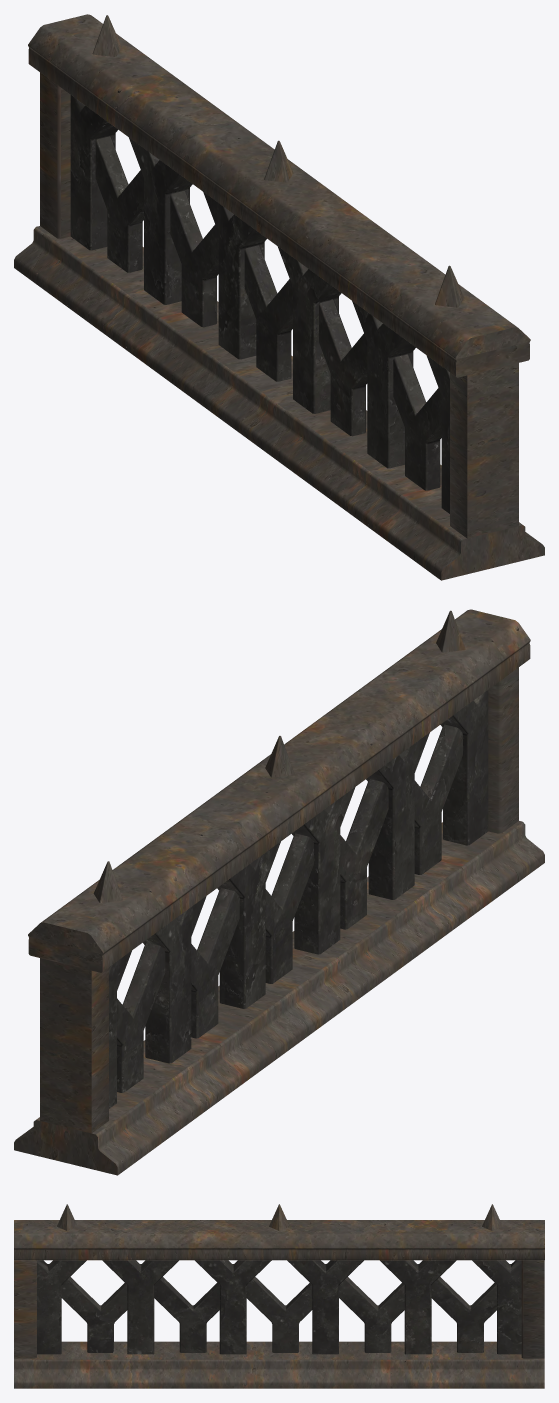
The picture shows the model from 3 angles, top to bottom: view 1: azimuth 30°, elevation 25°; view 2: azimuth 150°, elevation 25°; view 3: azimuth 270°, elevation 25°; orthographic projection. The views are drawn at different scales.
Visible parts, largest first — view 1: SM_Greathall_Banister_02_LOD0; view 2: SM_Greathall_Banister_02_LOD0; view 3: SM_Greathall_Banister_02_LOD0.
Boxes of the visible parts, x1,y1,x2,y2 form: SM_Greathall_Banister_02_LOD0: (14,14,544,580); SM_Greathall_Banister_02_LOD0: (14,609,544,1175); SM_Greathall_Banister_02_LOD0: (14,1204,544,1388).
Bounding box in the file's own units: 0.7004 × 1.75 × 5.
Materials: 2 (2 with a texture image).
